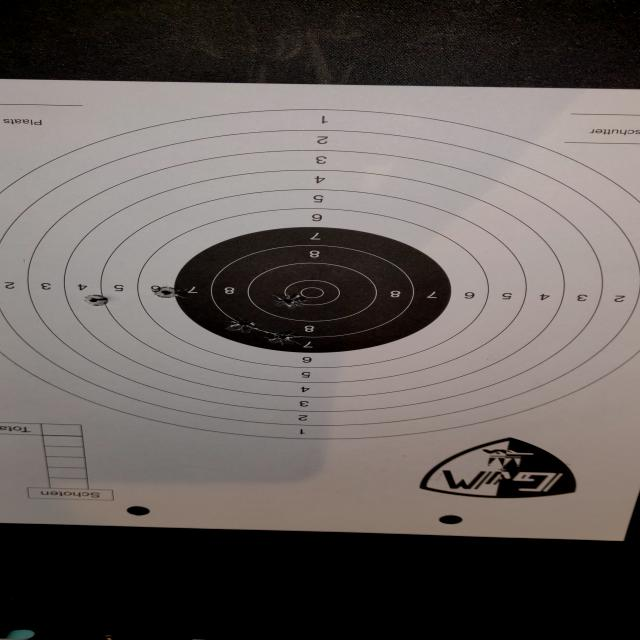10: (270, 293, 307, 310)
5: (84, 294, 116, 307)
7: (153, 286, 185, 300)
8: (262, 331, 305, 346), (223, 318, 260, 334)
Target: (0, 108, 640, 443)
black_contour: (174, 226, 450, 353)
